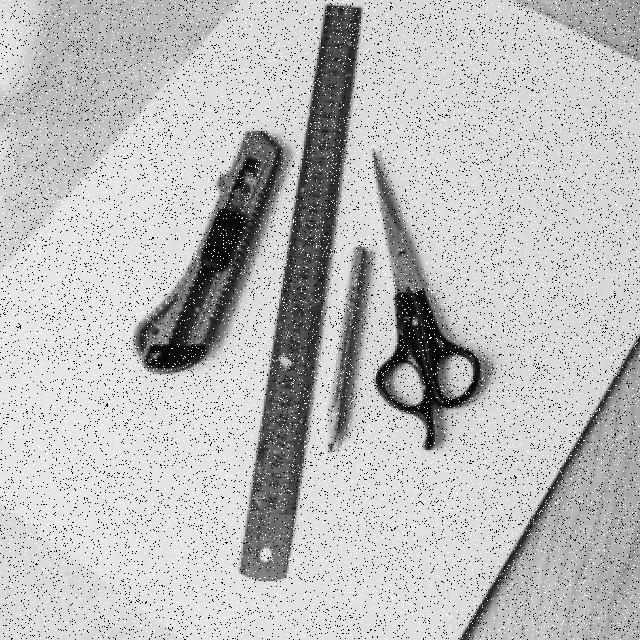scissors: (366, 140, 486, 455)
